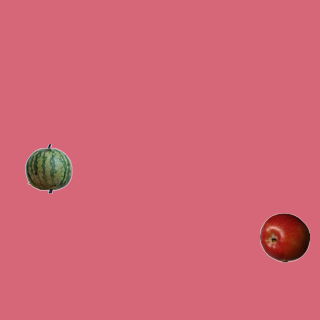Apple Braeburn: (259, 212, 309, 262)
Watermelon: (23, 143, 73, 193)
